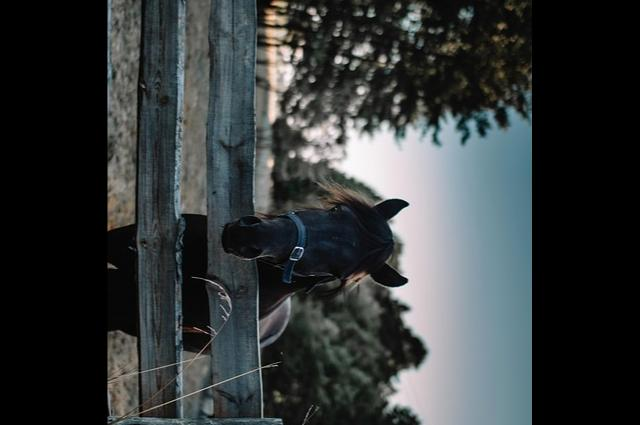Non_Gorille: (122, 130, 490, 387)
